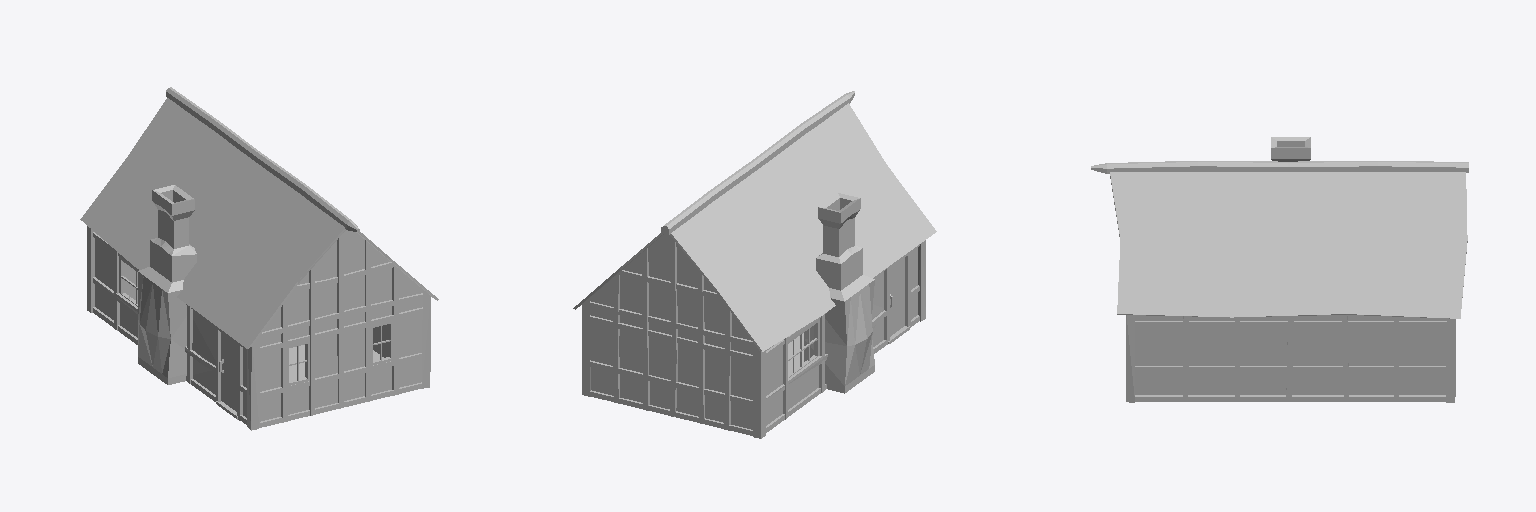
File: Casa03.obj
3 views of the same model, side by side, from view 1: azimuth 30°, elevation 25°; view 2: azimuth 150°, elevation 25°; view 3: azimuth 270°, elevation 25° (orthographic).
Parts seen in each view (by area): view 1: Medieval_house_1_Cube, Door_Plane.001; view 2: Medieval_house_1_Cube, Door_Plane.001; view 3: Medieval_house_1_Cube.
Part boxes in pixels (bbox=[...]): Medieval_house_1_Cube: bbox=[80, 87, 438, 430]; Door_Plane.001: bbox=[219, 333, 236, 411]; Medieval_house_1_Cube: bbox=[573, 91, 936, 438]; Door_Plane.001: bbox=[890, 258, 904, 336]; Medieval_house_1_Cube: bbox=[1091, 137, 1468, 402].
Size of the model in its own units: 5.93 by 5.35 by 9.27.